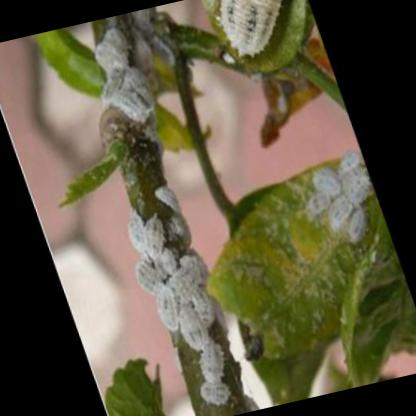mealy bug: (155, 290, 183, 336), (97, 42, 129, 80), (179, 308, 207, 349), (200, 342, 224, 385), (168, 271, 194, 306), (194, 286, 216, 326), (128, 210, 147, 256), (144, 218, 163, 262), (313, 169, 341, 197), (136, 263, 161, 293), (200, 382, 230, 407), (330, 196, 352, 230), (156, 188, 182, 214), (338, 151, 360, 174), (349, 212, 366, 241)
